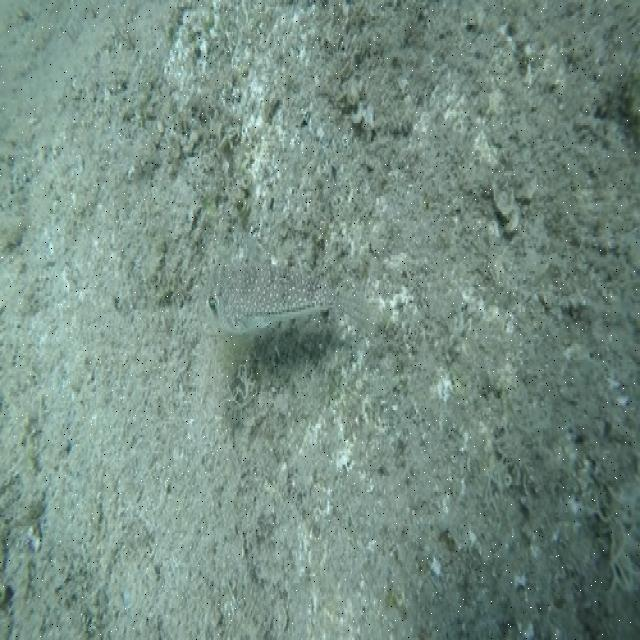Balik: (208, 265, 335, 332)
